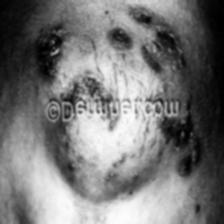Toxin: (110, 6, 194, 61), (160, 118, 206, 182), (38, 24, 68, 84), (71, 75, 121, 98)
